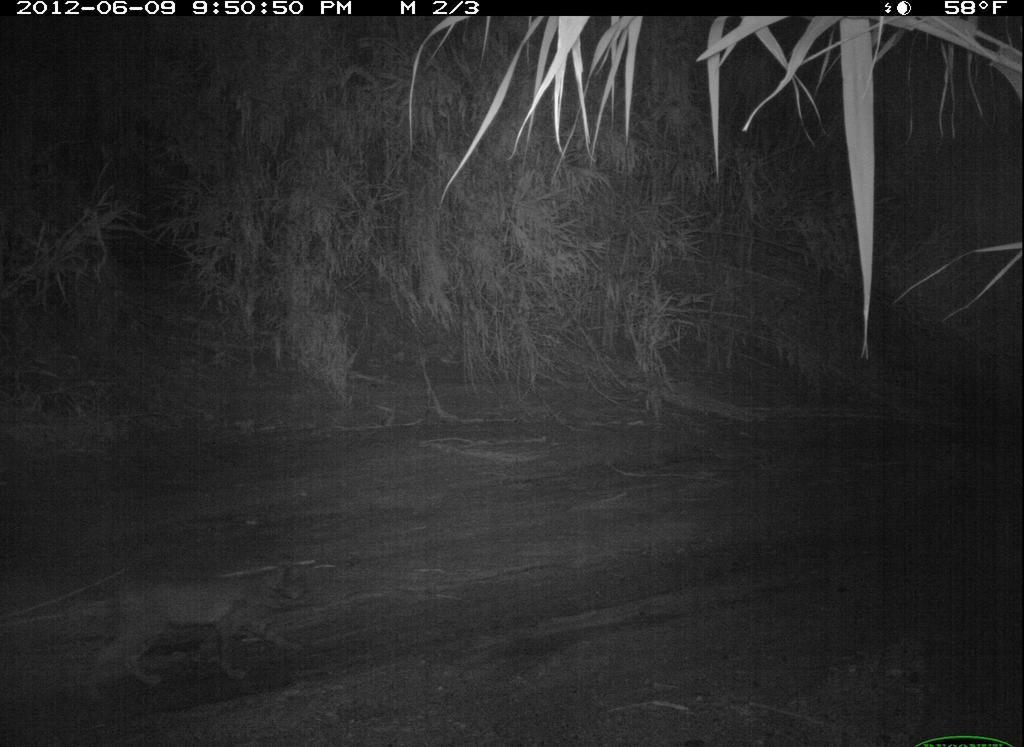bobcat: (72, 542, 335, 710)
